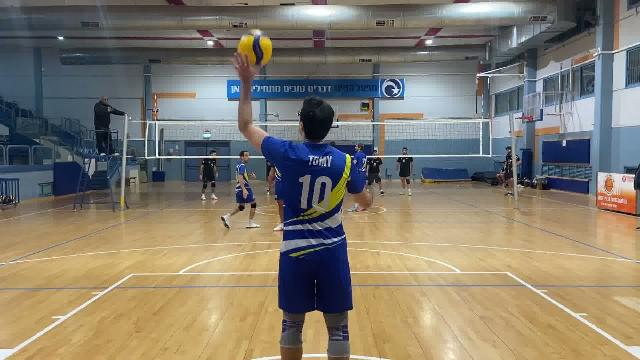ball: (233, 27, 275, 71)
